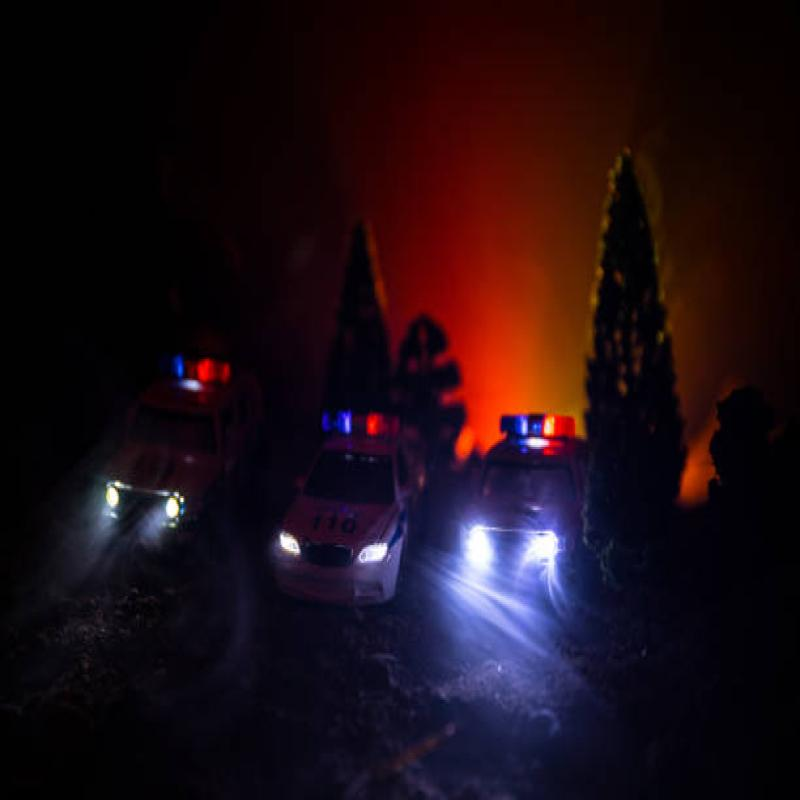AmbulanceSiren: (310, 396, 396, 451), (500, 404, 578, 449), (169, 343, 229, 401)
